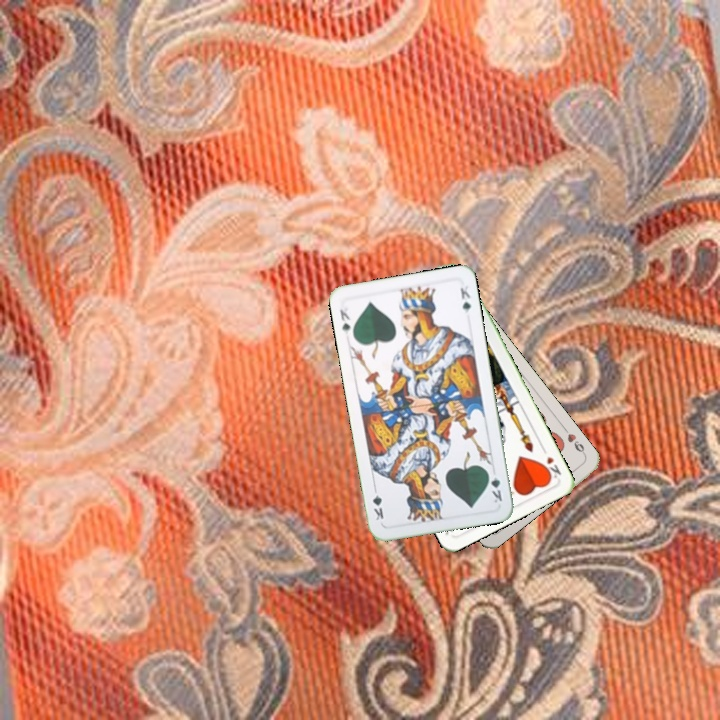GK: (484, 467, 505, 505), (336, 305, 353, 337)
H9: (559, 424, 589, 459)
HK: (537, 443, 564, 482)
